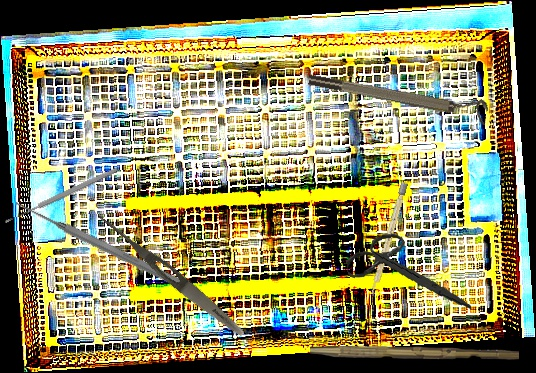Dressing Forceps: (91, 209, 249, 341)
Fixation Ring: (307, 63, 490, 126)
Iris Scissors: (343, 225, 472, 323)
Pusher: (12, 196, 198, 297)
Scalpel Handle: (368, 181, 409, 298), (310, 346, 519, 361)
Surgical Spoon: (3, 166, 119, 225)
